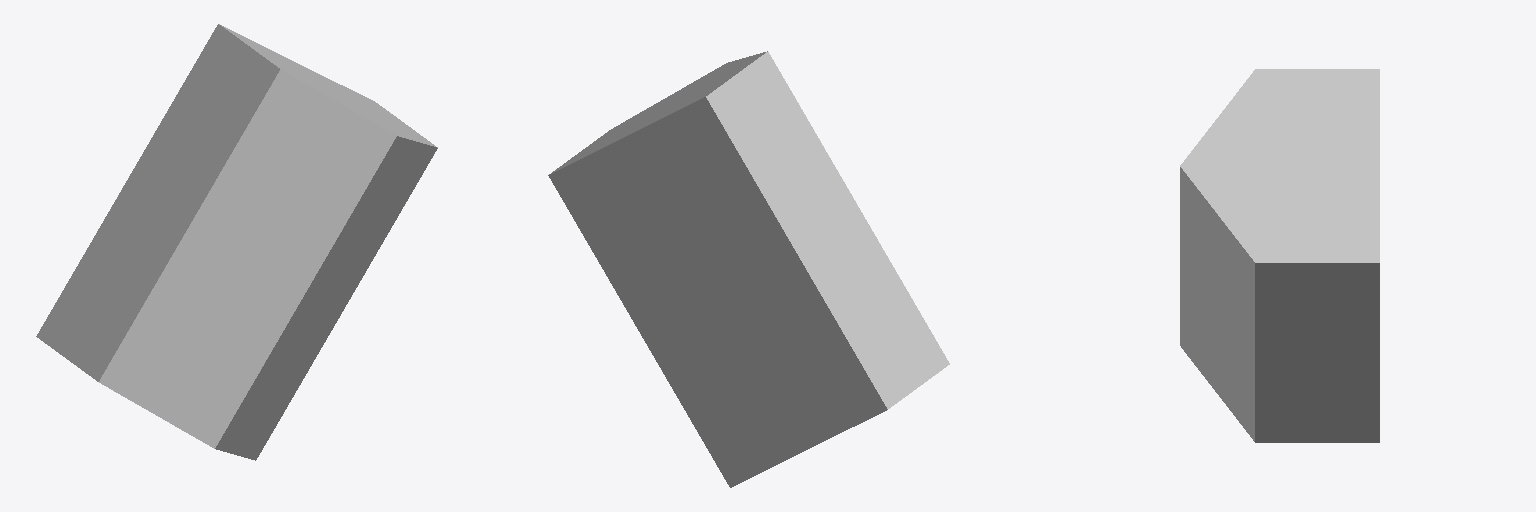
Rendered from Spira175OBJ_roofCutAtWalls.obj.
3 renders of one model, left to right at view 1: azimuth 30°, elevation 25°; view 2: azimuth 150°, elevation 25°; view 3: azimuth 270°, elevation 25°, orthographic.
Size of the model in its own units: 14.47 by 15.7 by 7.38.